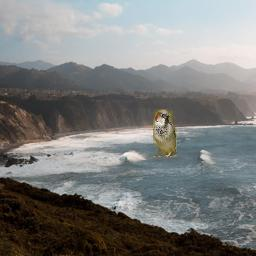Sparrow: (153, 109, 177, 157)
